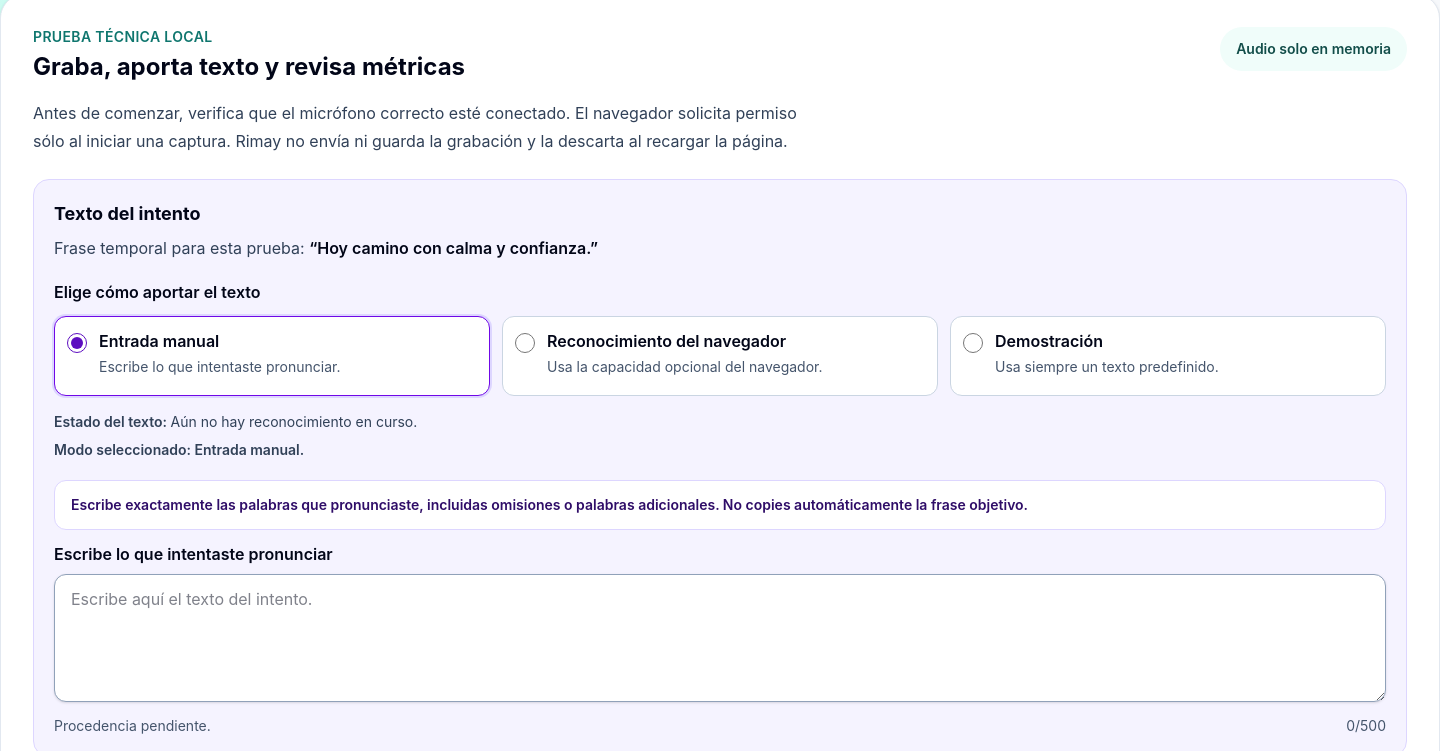
AudioRecorderCard speech text flow › conserva grabación, reproducción y análisis si falla el reconocimiento
The image size is (1440, 751).
What coordinates should you click on to do the following:
click the radio button labelled "Reconocimiento del navegador"
I would click on:
 (525, 343)
Its box is [515,333,535,353].
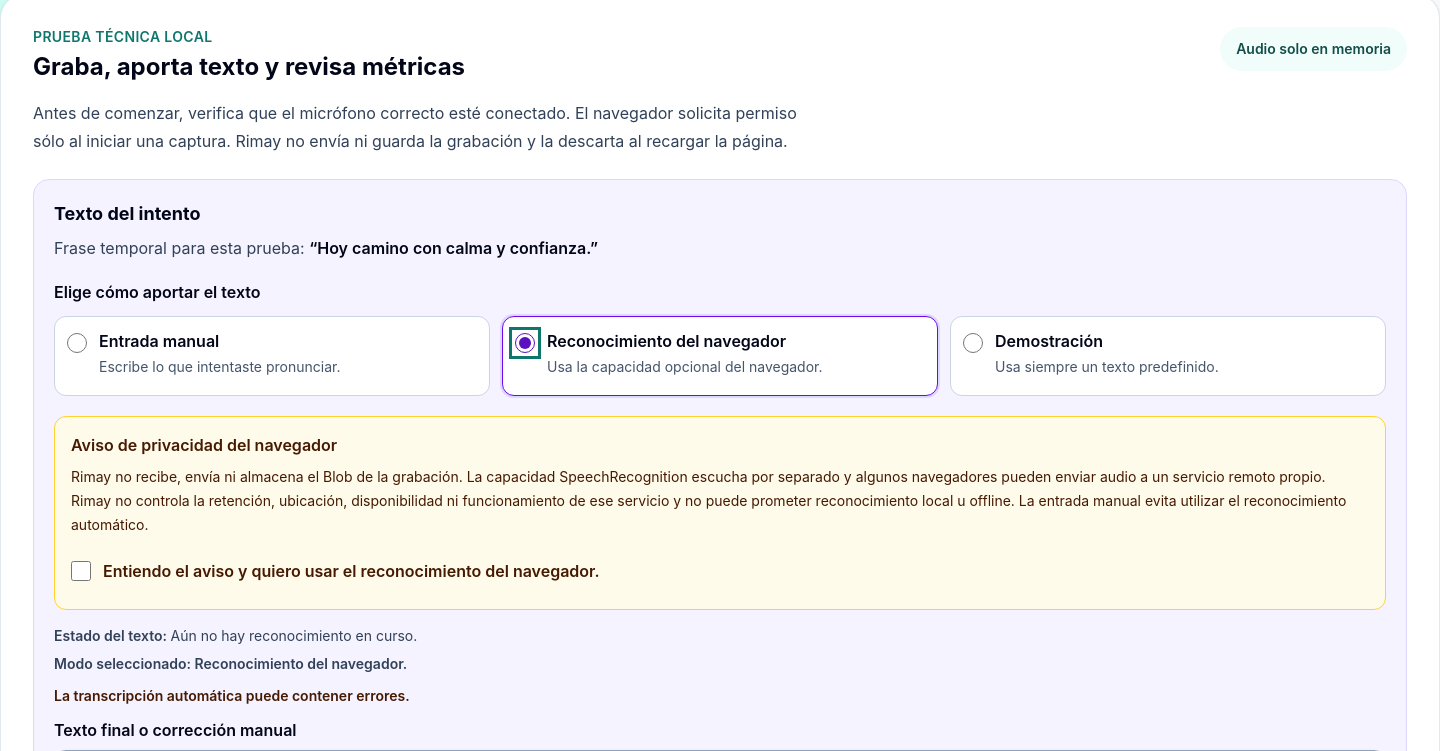
What coordinates should you click on to do the following:
click the checkbox labelled "Entiendo el aviso"
I would click on:
 (81, 571)
Its box is [71,561,91,581].
(page scrolled)
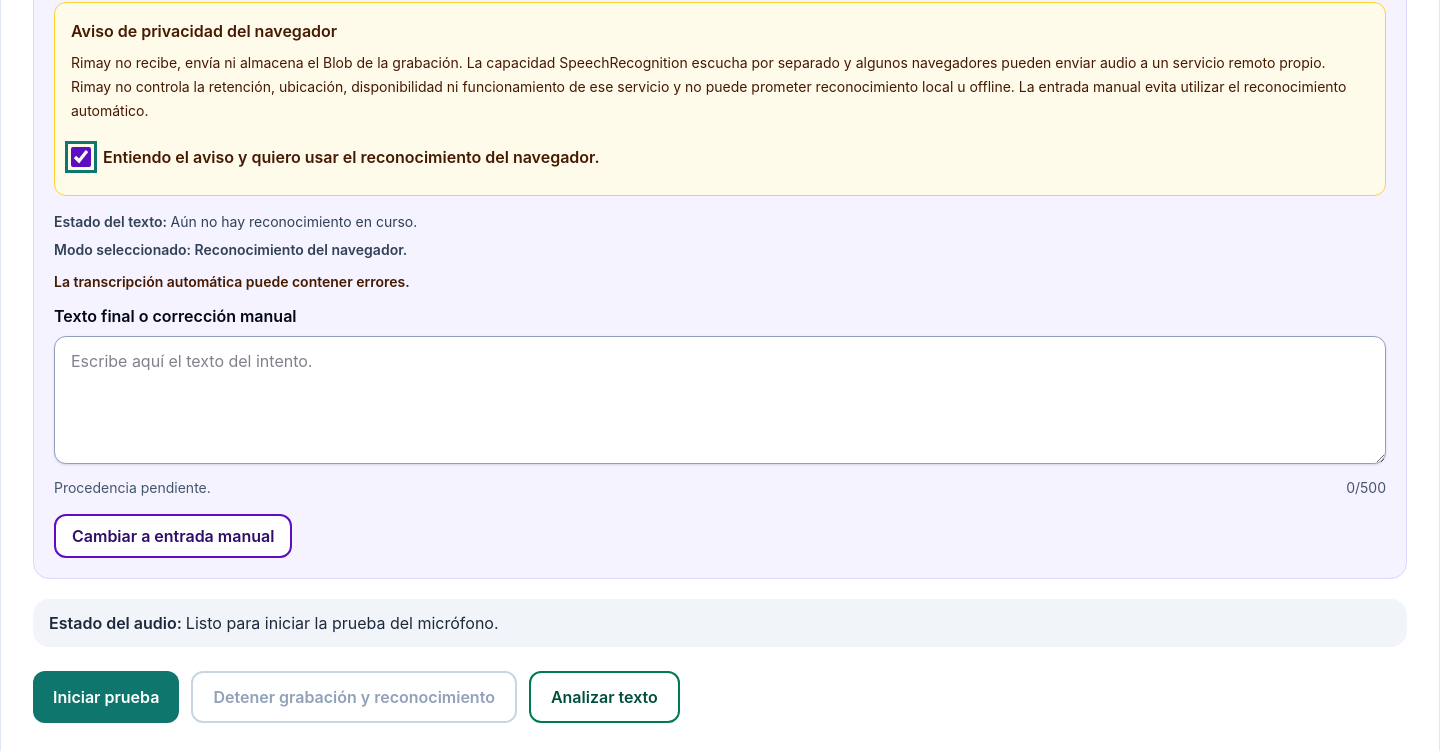
What coordinates should you click on to do the following:
click the button "Iniciar prueba"
I would click on:
 (106, 697)
Its box is [33,671,179,723].
(page scrolled)
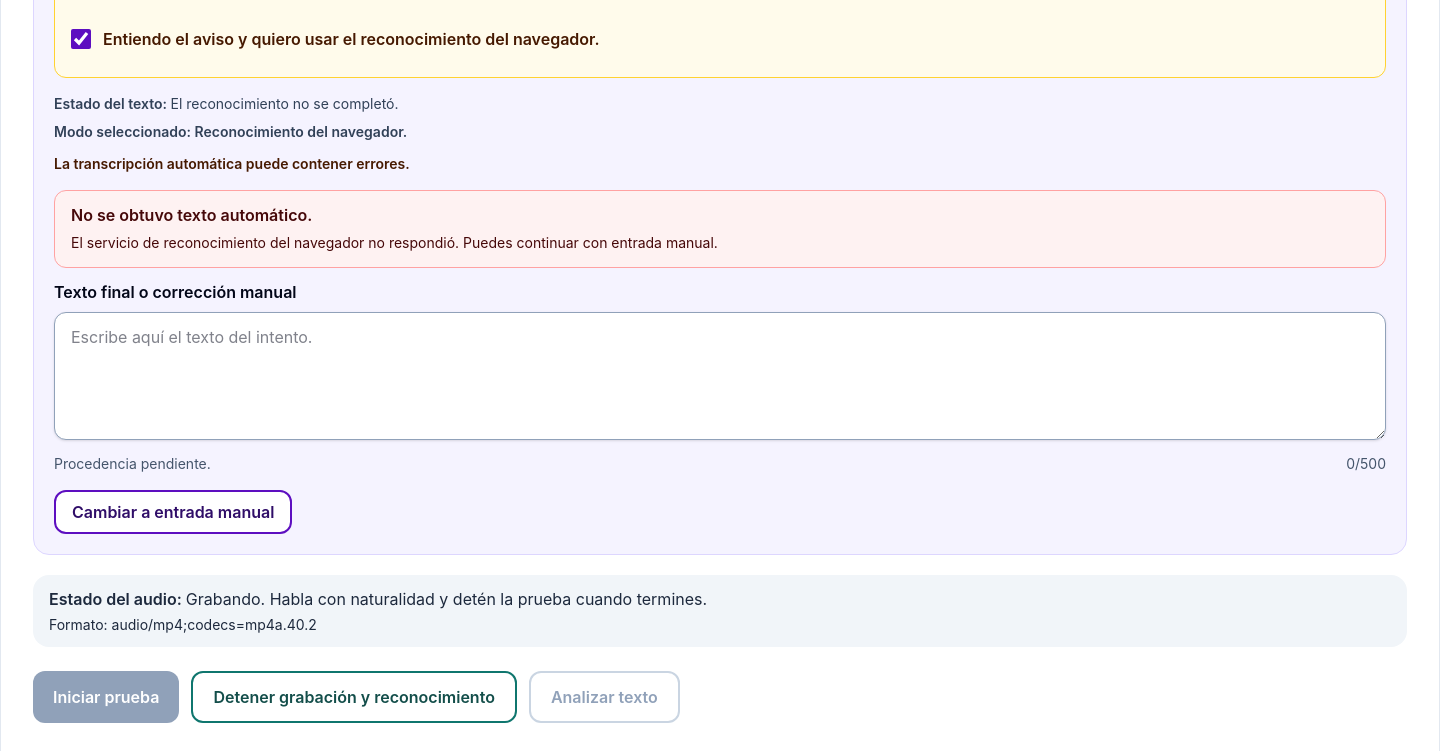
What coordinates should you click on to do the following:
click the button "Detener grabación y reconocimiento"
I would click on:
 (354, 697)
Its box is [191,671,517,723].
(page scrolled)
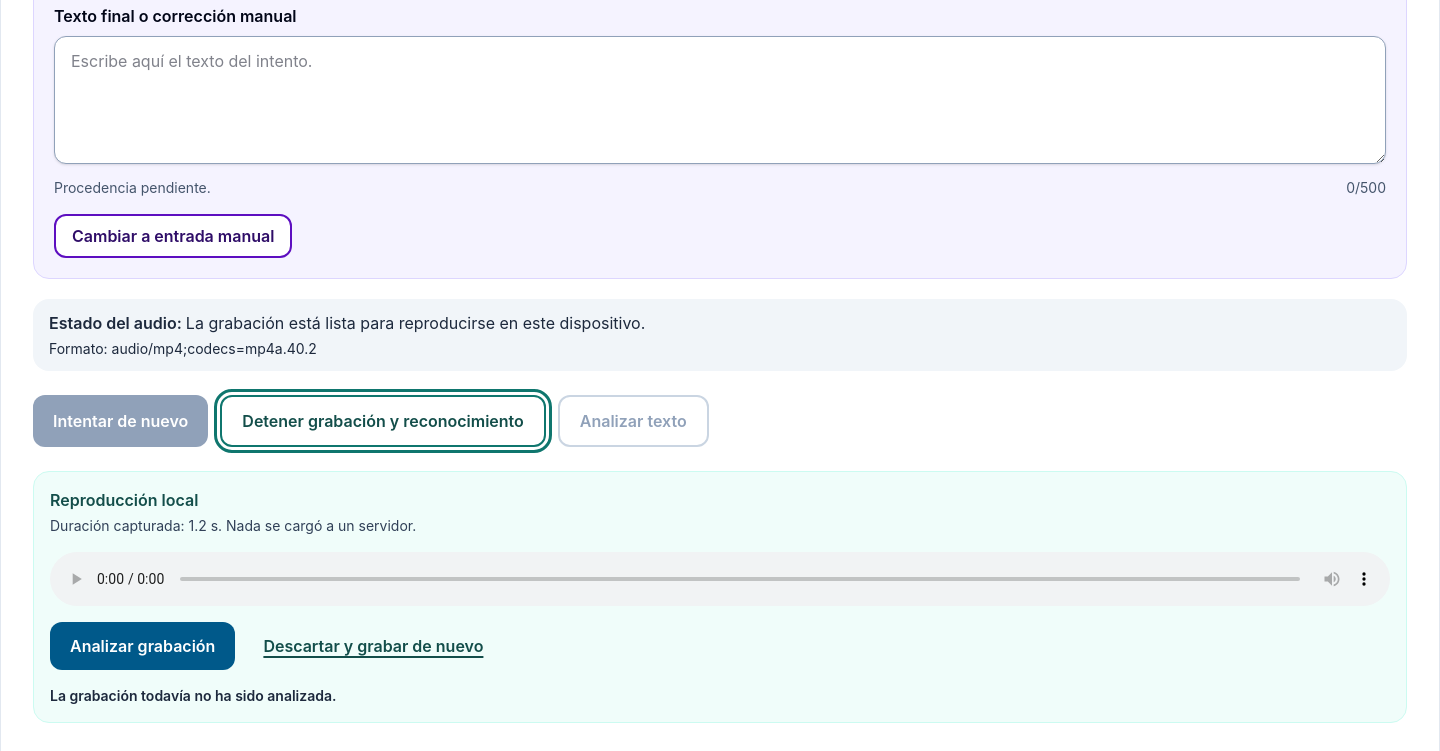
Result: the text named "Reproducir la grabación local" is shown at [50,552,1390,606]
What coordinates should you click on to do the following:
click the button "Analizar grabación"
I would click on:
 (143, 646)
Its box is [50,622,235,670].
(page scrolled)
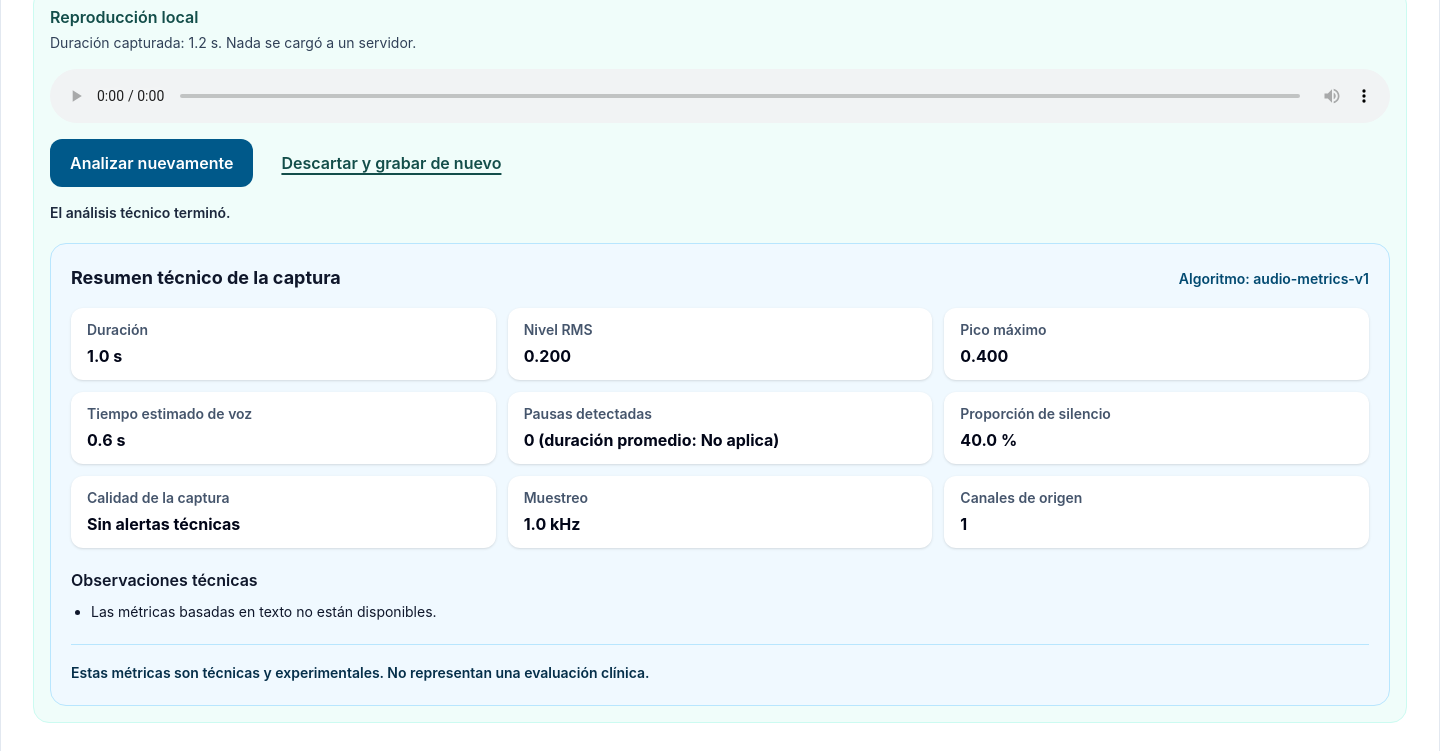
Result: the element "Resumen técnico de la captura" is shown at [50,243,1390,706]
